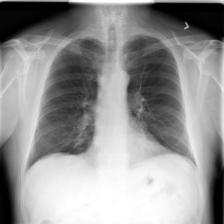normal: (18, 32, 202, 172)
